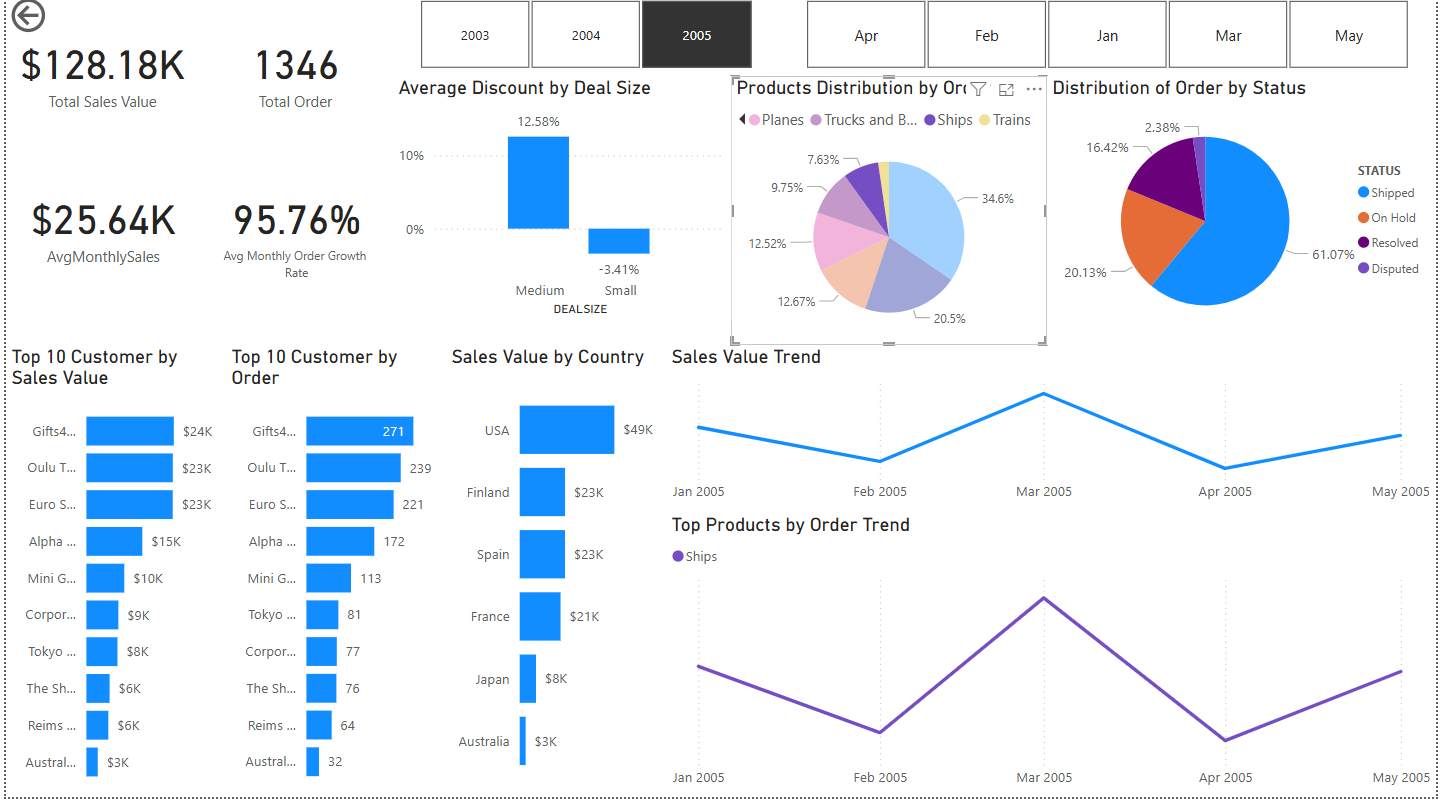

The page's visual inventory and layout, read from the dashboard file:
{"tool":"powerbi","page":{"name":"Page 1","canvas":[1280,720],"ordinal":0},"visuals":[{"type":"card","fields":{"Values":["Sum(Sheet1.SALES)"]},"box":[0,0,172.8,138.8],"z":0},{"type":"card","fields":{"Values":["Sum(Sheet1.QUANTITYORDERED)"]},"box":[172.8,0,172.8,138.8],"z":1000},{"type":"slicer","fields":{"Values":["Sheet1.YEAR_ID"]},"box":[345.7,0,345.7,74.3],"z":2000},{"type":"slicer","fields":{"Values":["Sheet1.MonthName"]},"box":[691.3,0,588.4,74.3],"z":3000},{"type":"lineChart","title":"Sales Value Trend","fields":{"Y":["Sum(Sheet1.SALES)"],"Category":["Sheet1.ORDERDATE.Variation.Date Hierarchy.Year","Sheet1.ORDERDATE.Variation.Date Hierarchy.Month"]},"box":[591,315.2,688.7,149.6],"z":4000},{"type":"lineChart","title":"Top Products by Order Trend","fields":{"Series":["Sheet1.PRODUCTLINE"],"Y":["Sum(Sheet1.QUANTITYORDERED)"],"Category":["Sheet1.ORDERDATE.Variation.Date Hierarchy.Year","Sheet1.ORDERDATE.Variation.Date Hierarchy.Month"]},"box":[590.9,465.5,689.1,254.5],"z":5000},{"type":"card","fields":{"Values":["Sheet1.AvgMonthlySales"]},"box":[0.8,139.2,172.5,138.3],"z":6000},{"type":"barChart","title":"Top 10 Customer by Sales Value","fields":{"Category":["Sheet1.CUSTOMERNAME"],"Y":["Sum(Sheet1.SALES)"]},"box":[0,315,196.7,405],"z":7000},{"type":"barChart","title":"Top 10 Customer by Order","fields":{"Category":["Sheet1.CUSTOMERNAME"],"Y":["Sum(Sheet1.QUANTITYORDERED)"]},"box":[197,315.2,197,404.8],"z":8000},{"type":"pieChart","title":"Products Distribution by Order","fields":{"Category":["Sheet1.PRODUCTLINE"],"Y":["Sum(Sheet1.QUANTITYORDERED)"]},"box":[649.3,74.3,283,240.9],"z":9000},{"type":"pieChart","title":"Distribution of Order by Status","fields":{"Category":["Sheet1.STATUS"],"Y":["Sum(Sheet1.QUANTITYORDERED)"]},"box":[932.2,74.3,347.5,240.9],"z":10000},{"type":"columnChart","title":"Average Discount by Deal Size","fields":{"Category":["Sheet1.DEALSIZE"],"Y":["Avg(Sheet1.PriceDifference%)"]},"box":[346.6,74.3,302.7,219.4],"z":11000},{"type":"barChart","title":"Sales Value by Country","fields":{"Y":["Sum(Sheet1.SALES)"],"Category":["Sheet1.COUNTRY","Sheet1.CITY"]},"box":[394,315.2,197,404.8],"z":12000},{"type":"actionButton","box":[0,0,100,40],"z":13000},{"type":"card","fields":{"Values":["Sheet1.AvgMoMGrowth"]},"box":[173.7,138.8,172.8,137.9],"z":14000}]}

Visuals, with their boxes in screenshot pixels (x1, y1, x2, y2), scaled from the page's 1280x720 canvas onto the 1440x800 screenshot:
card - Sum(Sheet1.SALES): {"x1": 0, "y1": 0, "x2": 194, "y2": 154}
card - Sum(Sheet1.QUANTITYORDERED): {"x1": 194, "y1": 0, "x2": 389, "y2": 154}
slicer - Sheet1.YEAR_ID: {"x1": 389, "y1": 0, "x2": 778, "y2": 83}
slicer - Sheet1.MonthName: {"x1": 778, "y1": 0, "x2": 1439, "y2": 83}
"Sales Value Trend" lineChart: {"x1": 665, "y1": 350, "x2": 1439, "y2": 516}
"Top Products by Order Trend" lineChart: {"x1": 665, "y1": 517, "x2": 1439, "y2": 799}
card - Sheet1.AvgMonthlySales: {"x1": 1, "y1": 155, "x2": 195, "y2": 308}
"Top 10 Customer by Sales Value" barChart: {"x1": 0, "y1": 350, "x2": 221, "y2": 799}
"Top 10 Customer by Order" barChart: {"x1": 222, "y1": 350, "x2": 443, "y2": 799}
"Products Distribution by Order" pieChart: {"x1": 730, "y1": 83, "x2": 1049, "y2": 350}
"Distribution of Order by Status" pieChart: {"x1": 1049, "y1": 83, "x2": 1439, "y2": 350}
"Average Discount by Deal Size" columnChart: {"x1": 390, "y1": 83, "x2": 730, "y2": 326}
"Sales Value by Country" barChart: {"x1": 443, "y1": 350, "x2": 665, "y2": 799}
actionButton: {"x1": 0, "y1": 0, "x2": 112, "y2": 44}
card - Sheet1.AvgMoMGrowth: {"x1": 195, "y1": 154, "x2": 390, "y2": 307}
